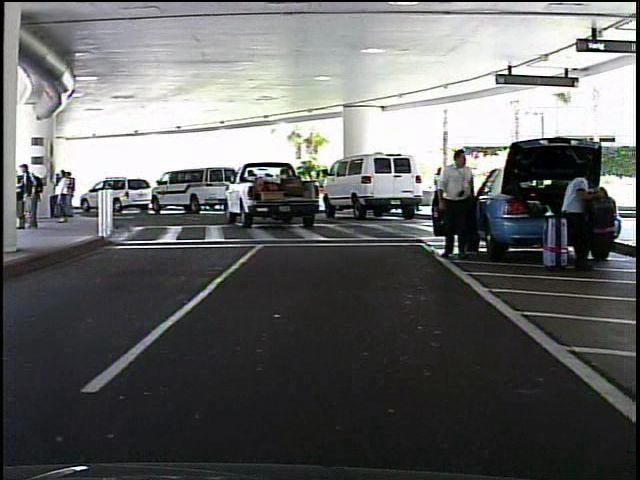person: (429, 143, 478, 262), (551, 166, 602, 272)
